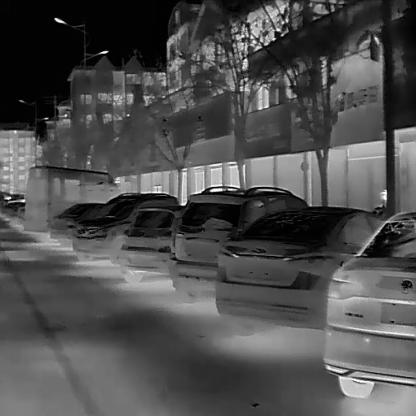car: (214, 206, 385, 337), (326, 211, 415, 400), (170, 184, 308, 304), (71, 191, 177, 265), (23, 164, 118, 242), (118, 202, 186, 284), (47, 200, 104, 249)
